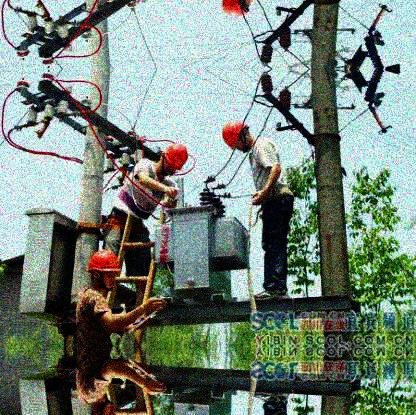helmet: (87, 250, 123, 291), (223, 119, 252, 153), (156, 143, 189, 172)
